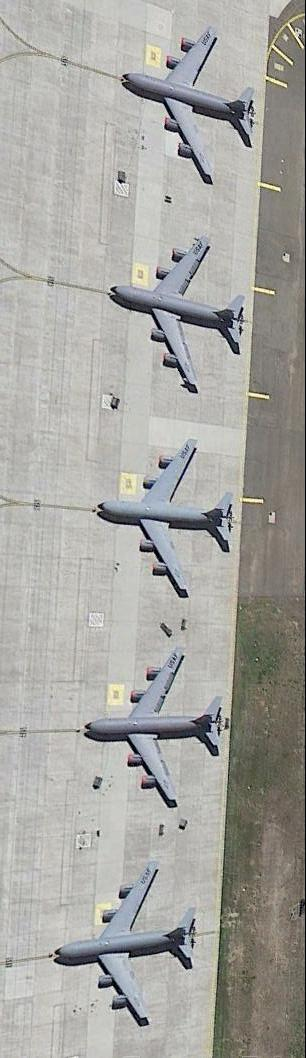KC-135: (48, 863, 206, 1026), (108, 236, 250, 393), (84, 649, 224, 808), (100, 442, 238, 597), (119, 31, 260, 181)
